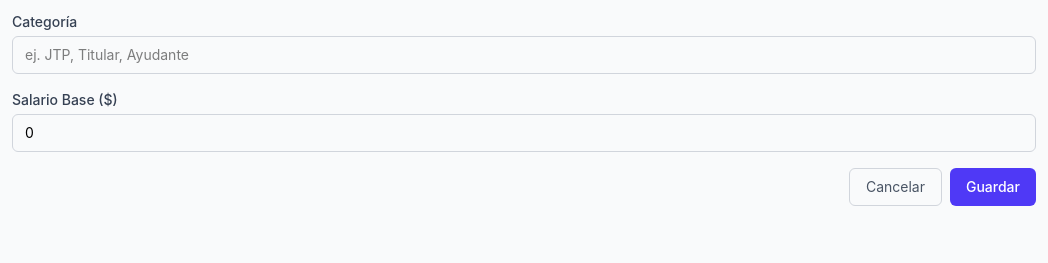
Scenario: FormularioGrilla › form validation blocks empty submit
Click the button "Guardar". click: (993, 187)
box: [950,168,1036,206]
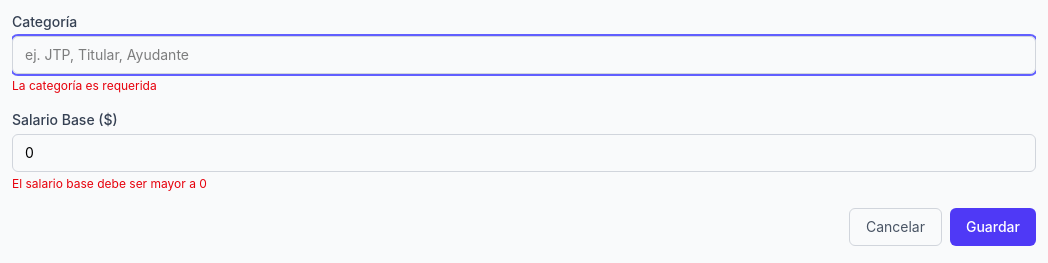
Result: the text "La categoría es requerida" is shown at [12,78,157,93]
